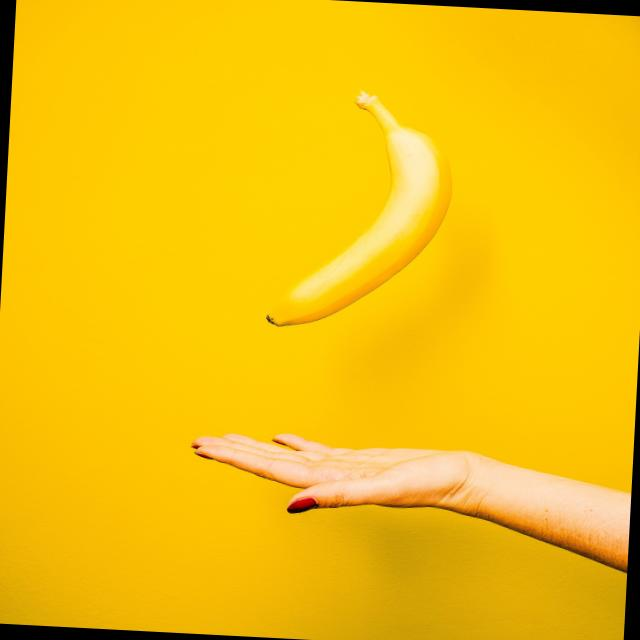banana: (255, 86, 464, 363)
